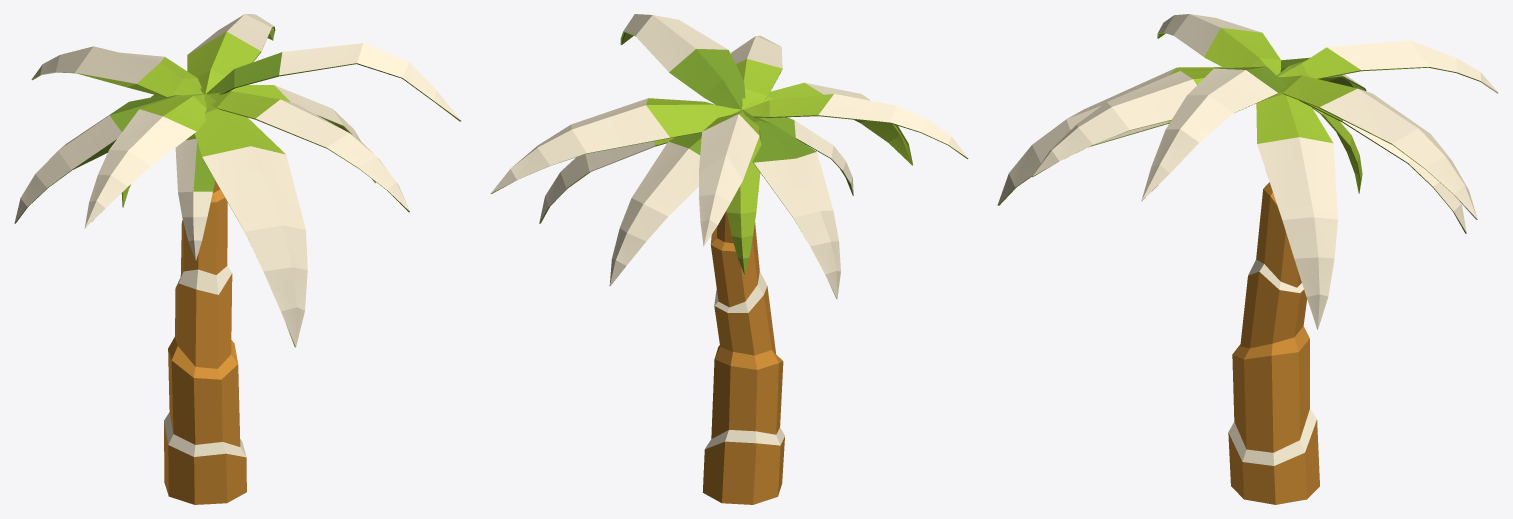
The model's file is Tree_06_Winter.fbx.
3 views of the same model, side by side, from view 1: azimuth 30°, elevation 25°; view 2: azimuth 150°, elevation 25°; view 3: azimuth 270°, elevation 25° (orthographic). The views are drawn at different scales.
Parts seen in each view (by area): view 1: Tree_06_p2_Winter, Tree_06_p1_Winter; view 2: Tree_06_p2_Winter, Tree_06_p1_Winter; view 3: Tree_06_p2_Winter, Tree_06_p1_Winter.
Part boxes in pixels (x1,y1,x2,y2): Tree_06_p2_Winter: (14,14,460,347); Tree_06_p1_Winter: (164,90,246,504); Tree_06_p2_Winter: (490,14,968,298); Tree_06_p1_Winter: (702,108,784,504); Tree_06_p2_Winter: (997,14,1498,329); Tree_06_p1_Winter: (1228,182,1319,504).
Bounding box in the file's own units: 312 × 353 × 353.
